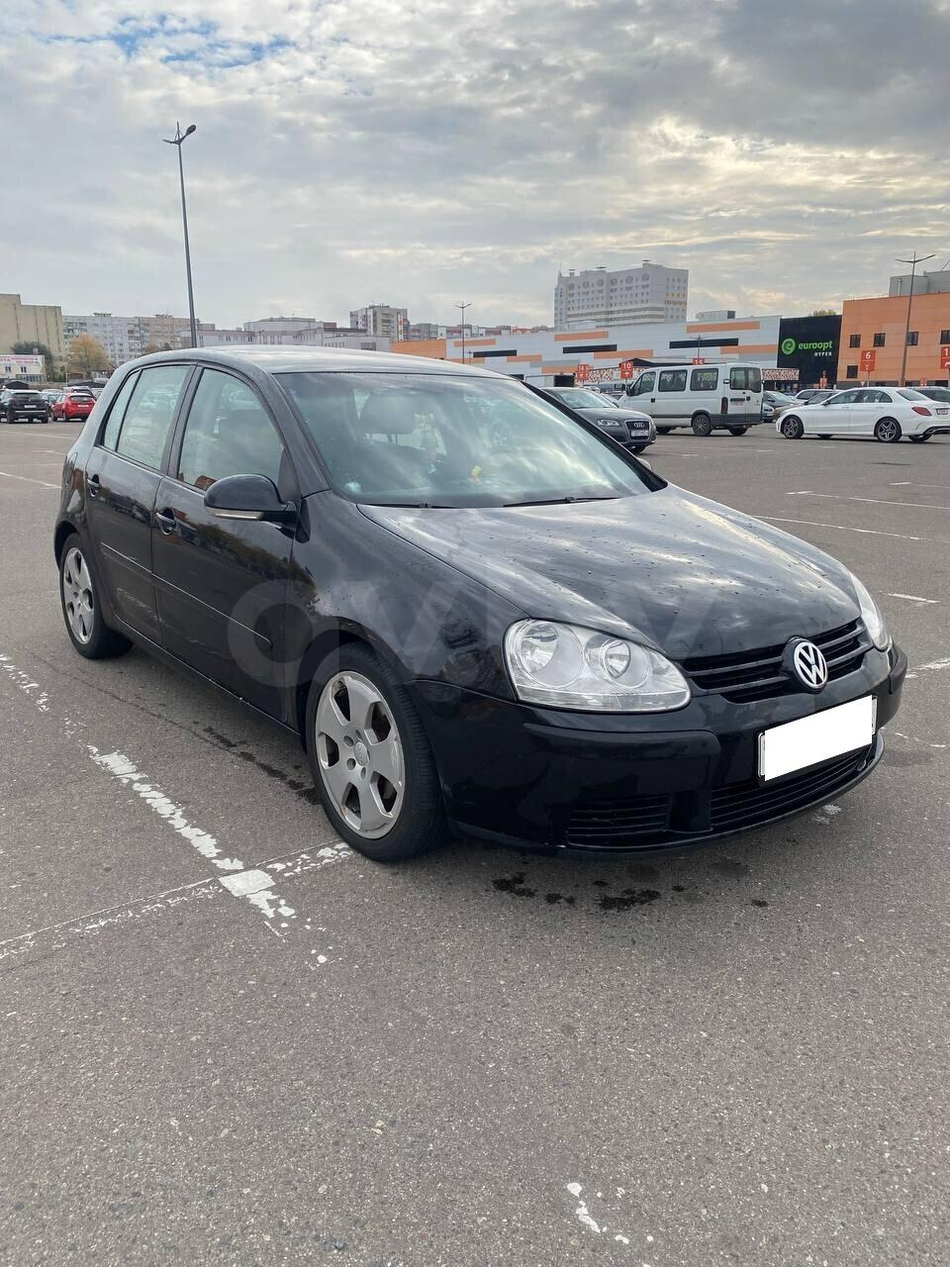Golf_2003-2009: (49, 340, 910, 869)
